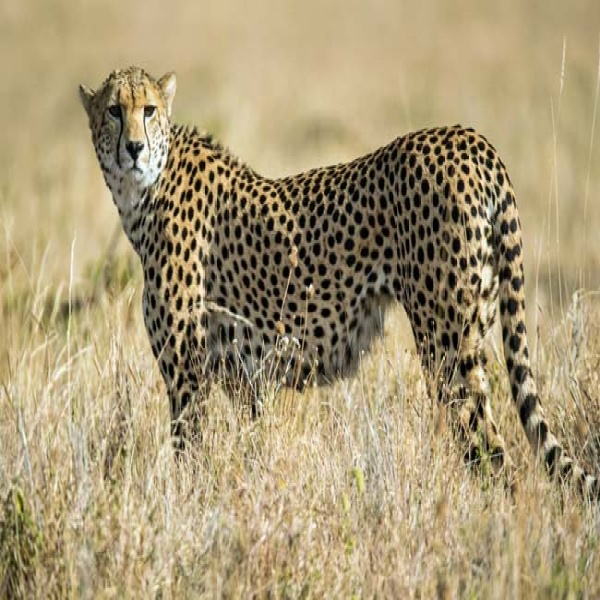Cheetah: (75, 61, 600, 510)
